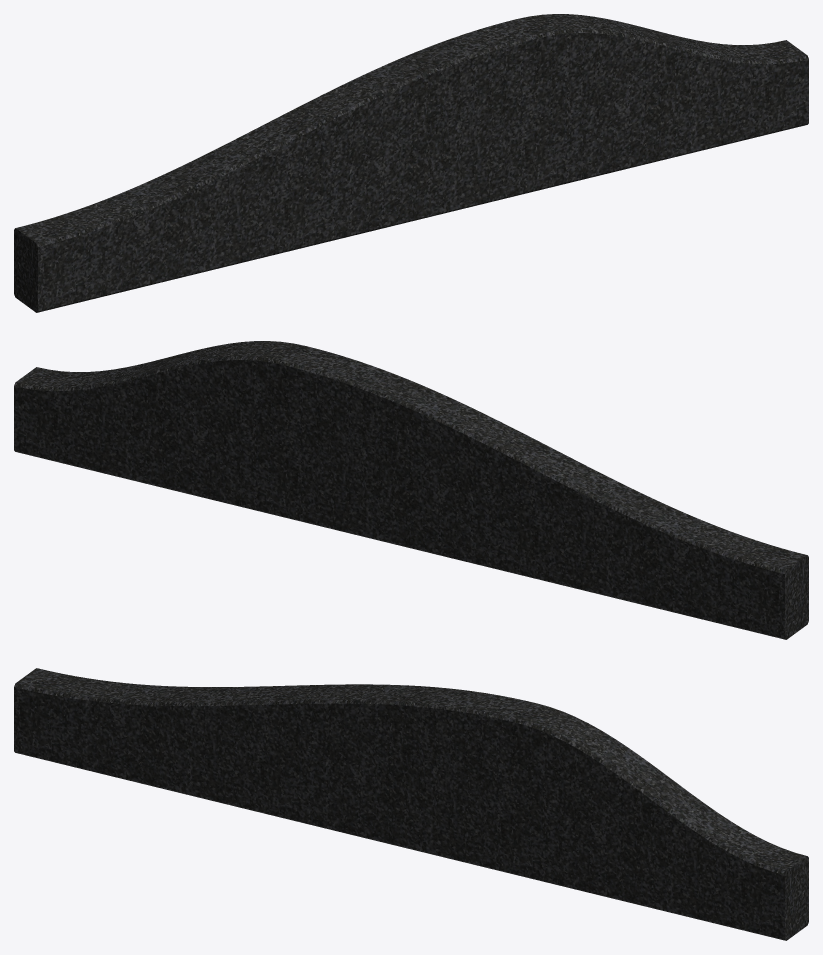
The model's file is fence-stone-wave.glb.
3 renders of one model, top to bottom at view 1: azimuth 30°, elevation 25°; view 2: azimuth 150°, elevation 25°; view 3: azimuth 330°, elevation 25°, orthographic.
Visible parts, largest first — view 1: fence-stone-wave; view 2: fence-stone-wave; view 3: fence-stone-wave.
Part boxes in pixels (x1,y1,x2,y2): fence-stone-wave: (14,14,808,312); fence-stone-wave: (14,341,808,639); fence-stone-wave: (14,668,808,940).
Bounding box in the file's own units: 0.93 × 0.18 × 0.05.
2 materials, 2 textured.
